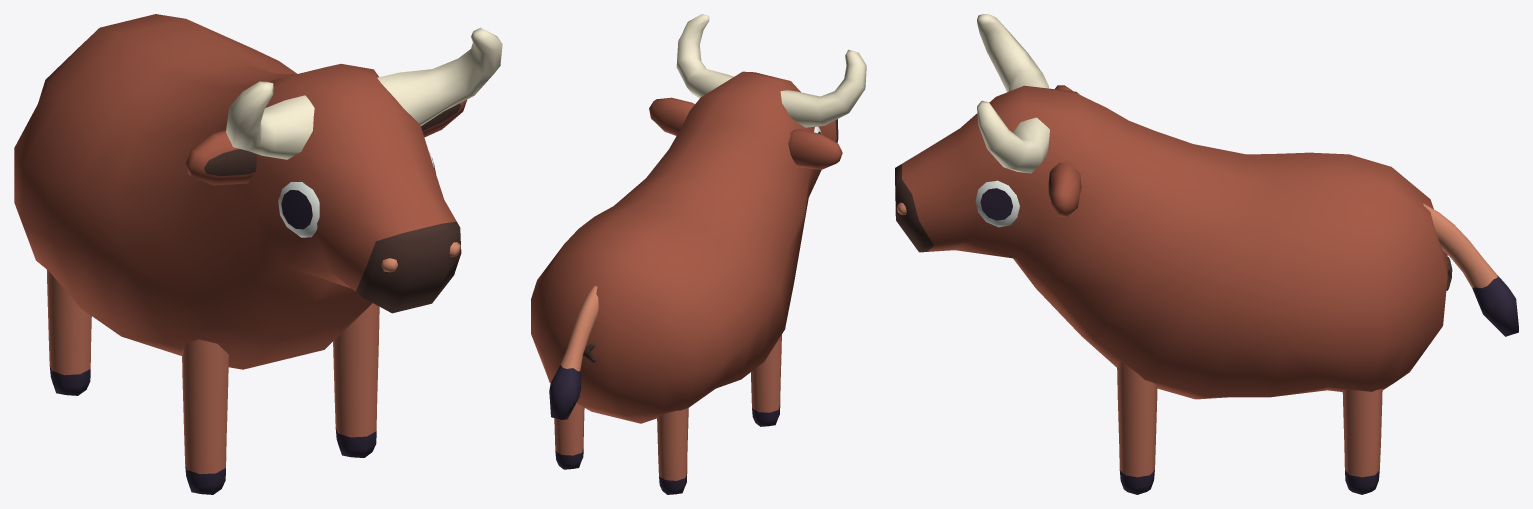
File: Bull.glb
3 views of the same model, side by side, from view 1: azimuth 30°, elevation 25°; view 2: azimuth 150°, elevation 25°; view 3: azimuth 270°, elevation 25° (orthographic). The views are drawn at different scales.
Visible parts, largest first — view 1: Bull; view 2: Bull; view 3: Bull.
Part boxes in pixels (box(x1,y1,x2,y2)): Bull: box(14, 14, 502, 494); Bull: box(531, 14, 866, 494); Bull: box(895, 14, 1518, 494).
Bounding box in the file's own units: 1.63 × 2.69 × 3.78.
1 material, 1 textured.
